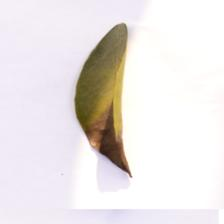black spot: (64, 101, 152, 180)
